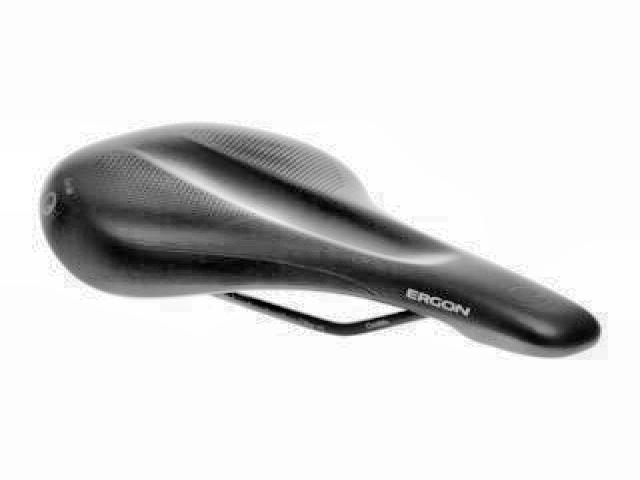saddle: (35, 118, 603, 360)
